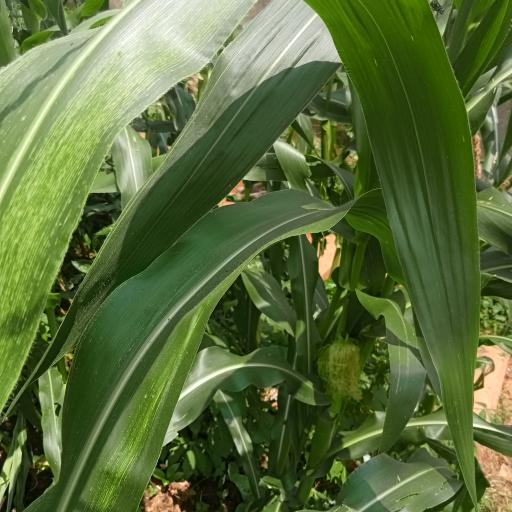Corn_Streak: (4, 0, 484, 488)
